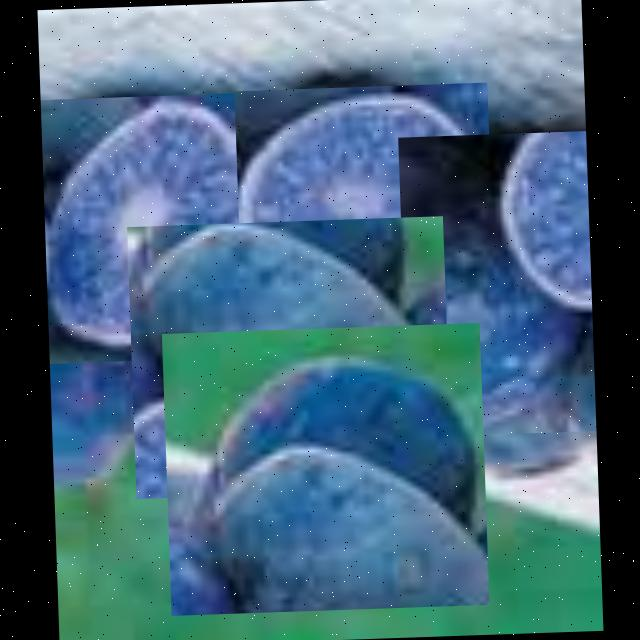Defected potato: (161, 322, 489, 616), (127, 216, 452, 498), (221, 82, 495, 331), (398, 131, 596, 437), (40, 92, 243, 364)
